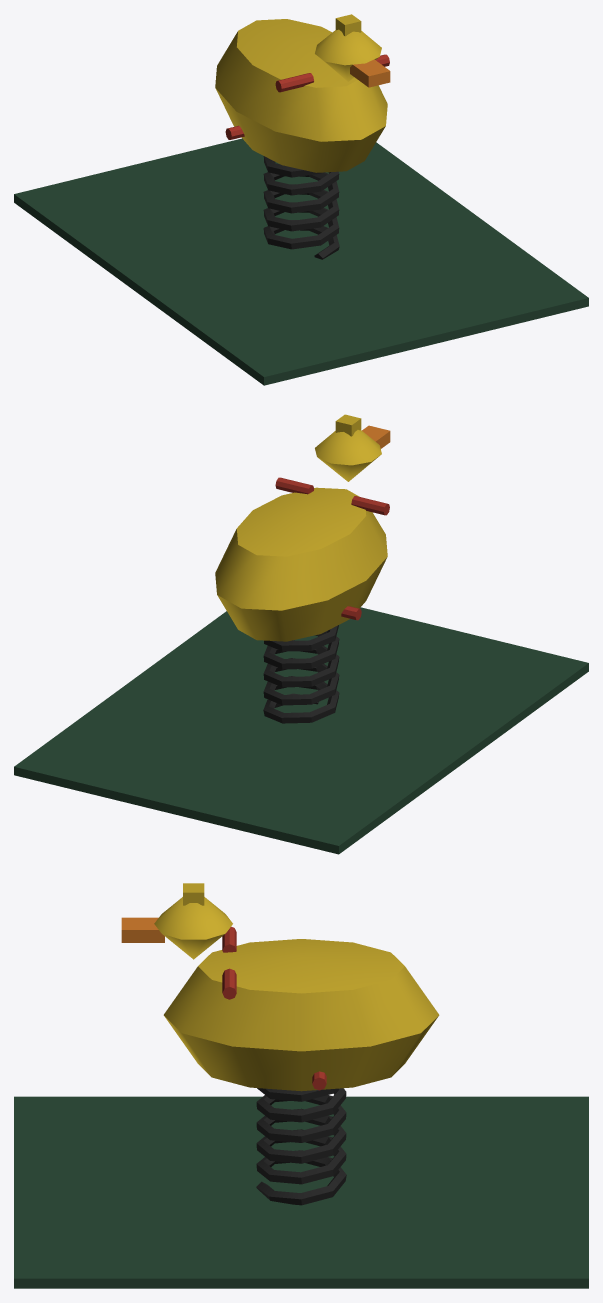
The model's file is sport.play.springer_duck.glb.
3 renders of one model, top to bottom at view 1: azimuth 30°, elevation 25°; view 2: azimuth 150°, elevation 25°; view 3: azimuth 270°, elevation 25°, orthographic. The views are drawn at different scales.
Parts seen in each view (by area): view 1: main__paint_243, main__paint_ca2, main__steel_222, main__paint_a32, main__paint_c72; view 2: main__paint_243, main__paint_ca2, main__steel_222, main__paint_a32; view 3: main__paint_243, main__paint_ca2, main__steel_222, main__paint_c72, main__paint_a32.
Part boxes in pixels (left/top/right/bottom): main__paint_243: left=14, top=138, right=588, bottom=385; main__paint_ca2: left=215, top=14, right=387, bottom=172; main__steel_222: left=263, top=156, right=339, bottom=259; main__paint_a32: left=225, top=54, right=389, bottom=139; main__paint_c72: left=350, top=59, right=390, bottom=87; main__paint_243: left=14, top=607, right=588, bottom=854; main__paint_ca2: left=215, top=414, right=387, bottom=641; main__steel_222: left=263, top=625, right=339, bottom=723; main__paint_a32: left=275, top=477, right=389, bottom=620; main__paint_243: left=14, top=1096, right=588, bottom=1288; main__paint_ca2: left=154, top=883, right=439, bottom=1091; main__steel_222: left=256, top=1088, right=346, bottom=1205; main__paint_c72: left=121, top=917, right=164, bottom=942; main__paint_a32: left=222, top=926, right=326, bottom=1090.
Size of the model in its own units: 1.2 by 0.954 by 1.6.
